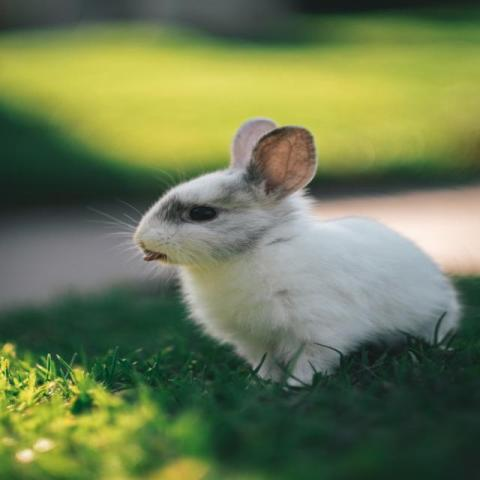small_animal: (121, 115, 465, 391)
